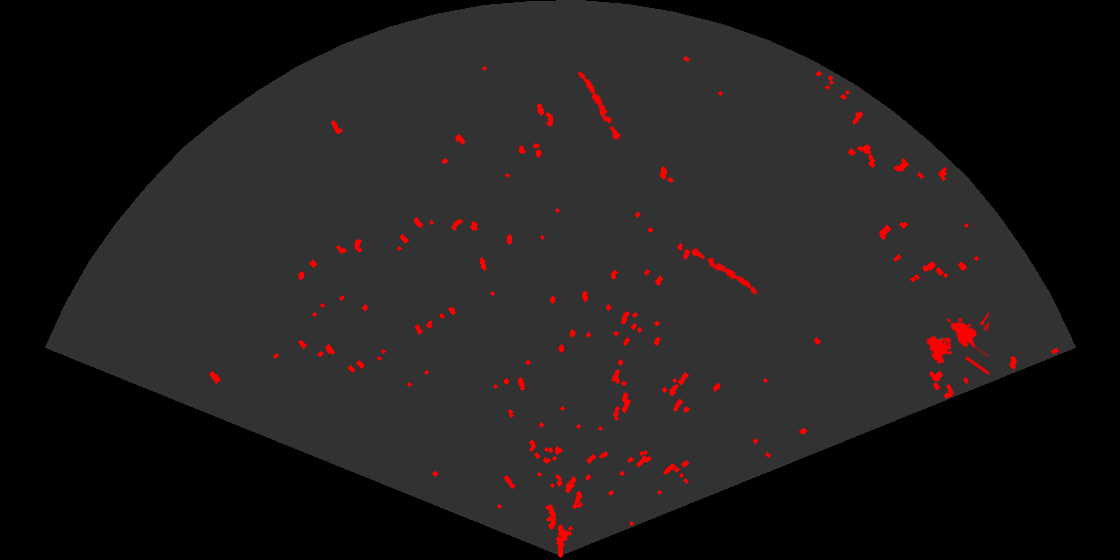cage: (925, 310, 989, 377)
chain: (686, 244, 759, 296), (576, 70, 623, 143)
